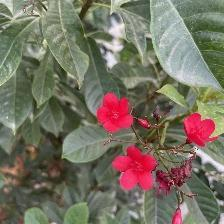jatropha: (97, 91, 137, 136)
